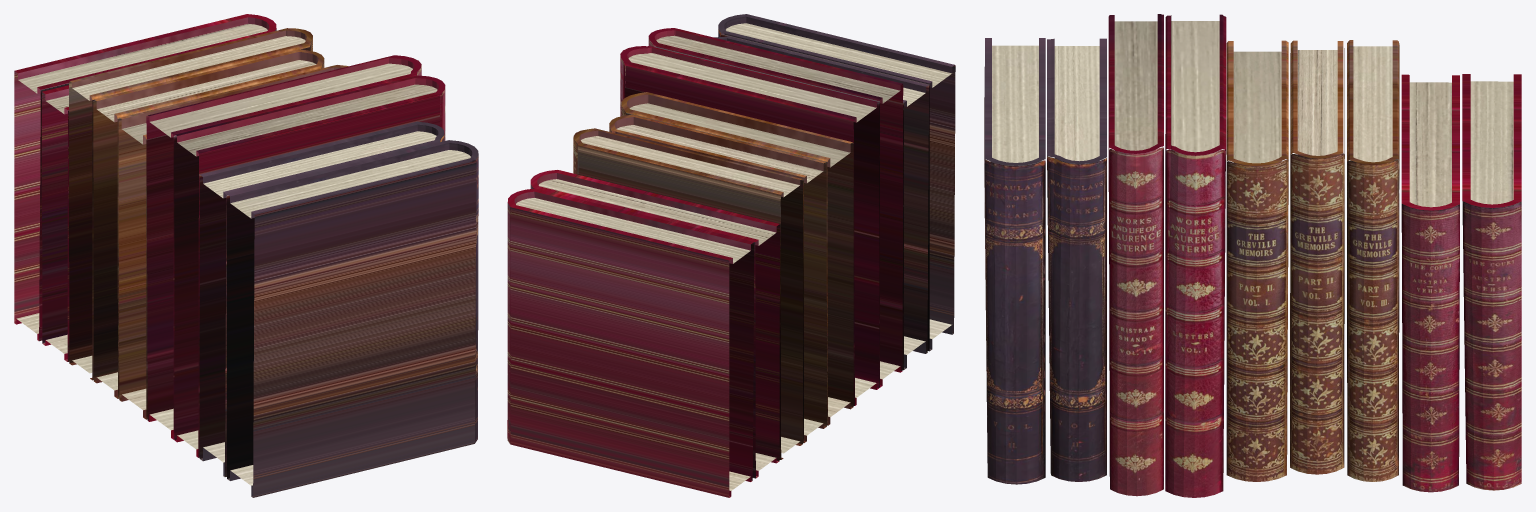
Rendered from BooksGroup07.fbx.
3 renders of one model, left to right at view 1: azimuth 30°, elevation 25°; view 2: azimuth 150°, elevation 25°; view 3: azimuth 270°, elevation 25°, orthographic. The views are drawn at different scales.
Visible parts, largest first — view 1: Book_pack_2; view 2: Book_pack_2; view 3: Book_pack_2.
Boxes of the visible parts, <box> form: Book_pack_2: <box>14,14,478,497</box>; Book_pack_2: <box>507,14,955,497</box>; Book_pack_2: <box>984,14,1521,497</box>.
Size of the model in its own units: 21.64 by 24.47 by 34.79.
2 materials, 2 textured.
